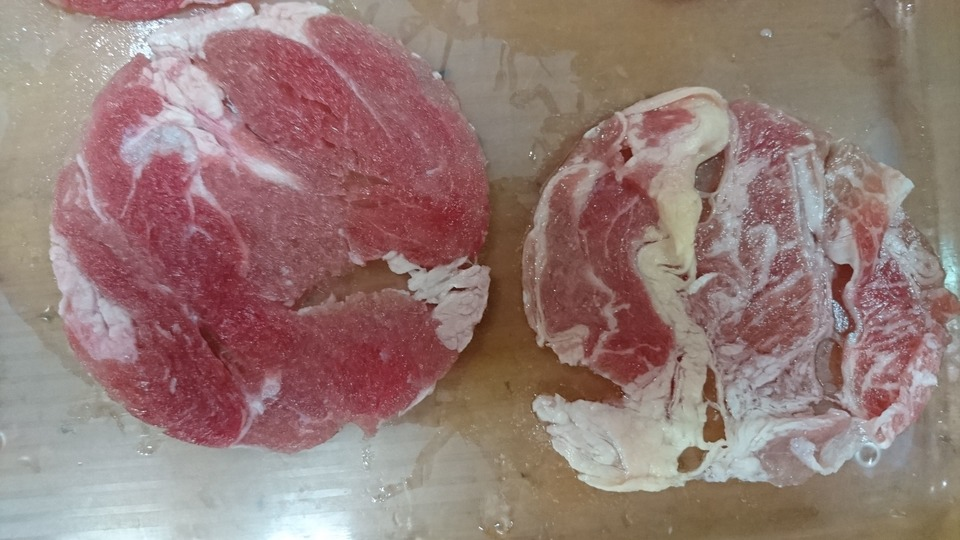restructured meat: (32, 20, 499, 462), (526, 56, 923, 509)
